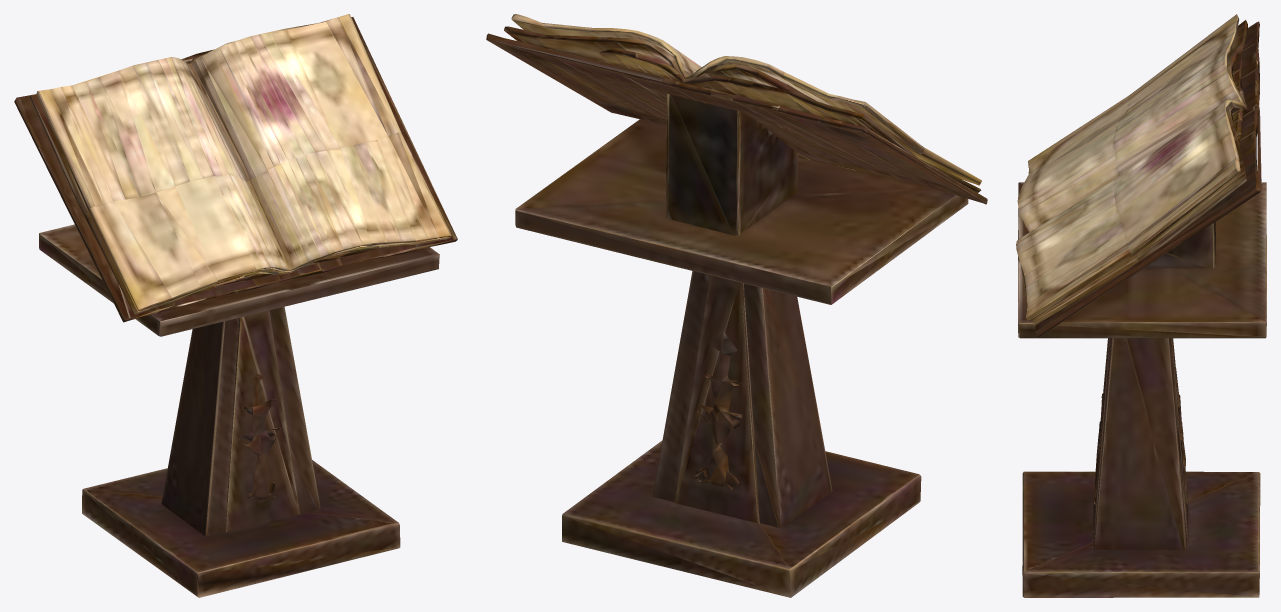
Rendered from lectern.lod1.glb.
3 views of the same model, side by side, from view 1: azimuth 30°, elevation 25°; view 2: azimuth 150°, elevation 25°; view 3: azimuth 270°, elevation 25° (orthographic). The views are drawn at different scales.
Size of the model in its own units: 0.9762 by 1.25 by 0.6126.
1 material, 1 textured.
